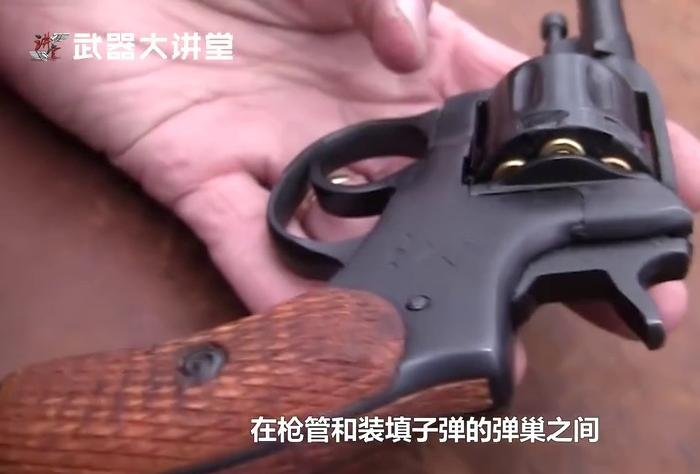gun: (0, 1, 700, 474)
